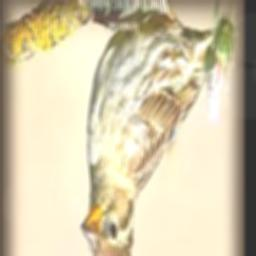Sparrow: (81, 6, 225, 256)
